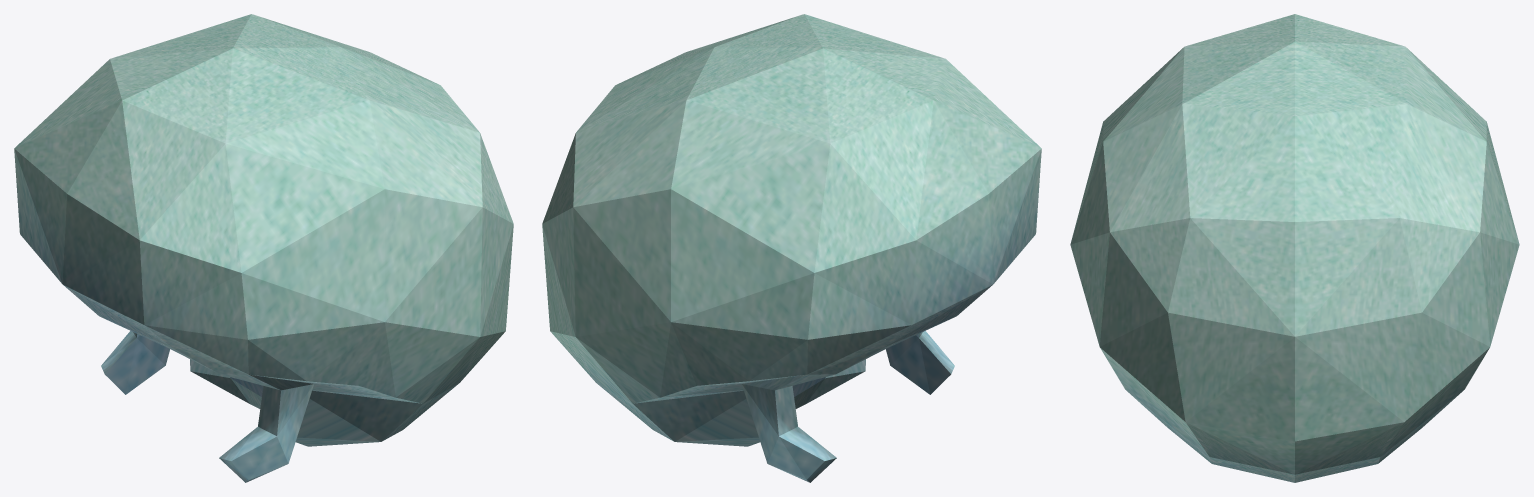
The model's file is Chameleon_afro.obj.
The picture shows the model from 3 angles, left to right: view 1: azimuth 30°, elevation 25°; view 2: azimuth 150°, elevation 25°; view 3: azimuth 270°, elevation 25°; orthographic projection. The views are drawn at different scales.
Visible parts, largest first — view 1: Chameleon_afro_tri; view 2: Chameleon_afro_tri; view 3: Chameleon_afro_tri.
Part boxes in pixels (box(x1,y1,x2,y2)): Chameleon_afro_tri: box(14, 14, 513, 482); Chameleon_afro_tri: box(542, 14, 1041, 482); Chameleon_afro_tri: box(1070, 14, 1519, 482).
Size of the model in its own units: 0.4847 by 0.4354 by 0.4674.
Materials: 1 (1 with a texture image).
